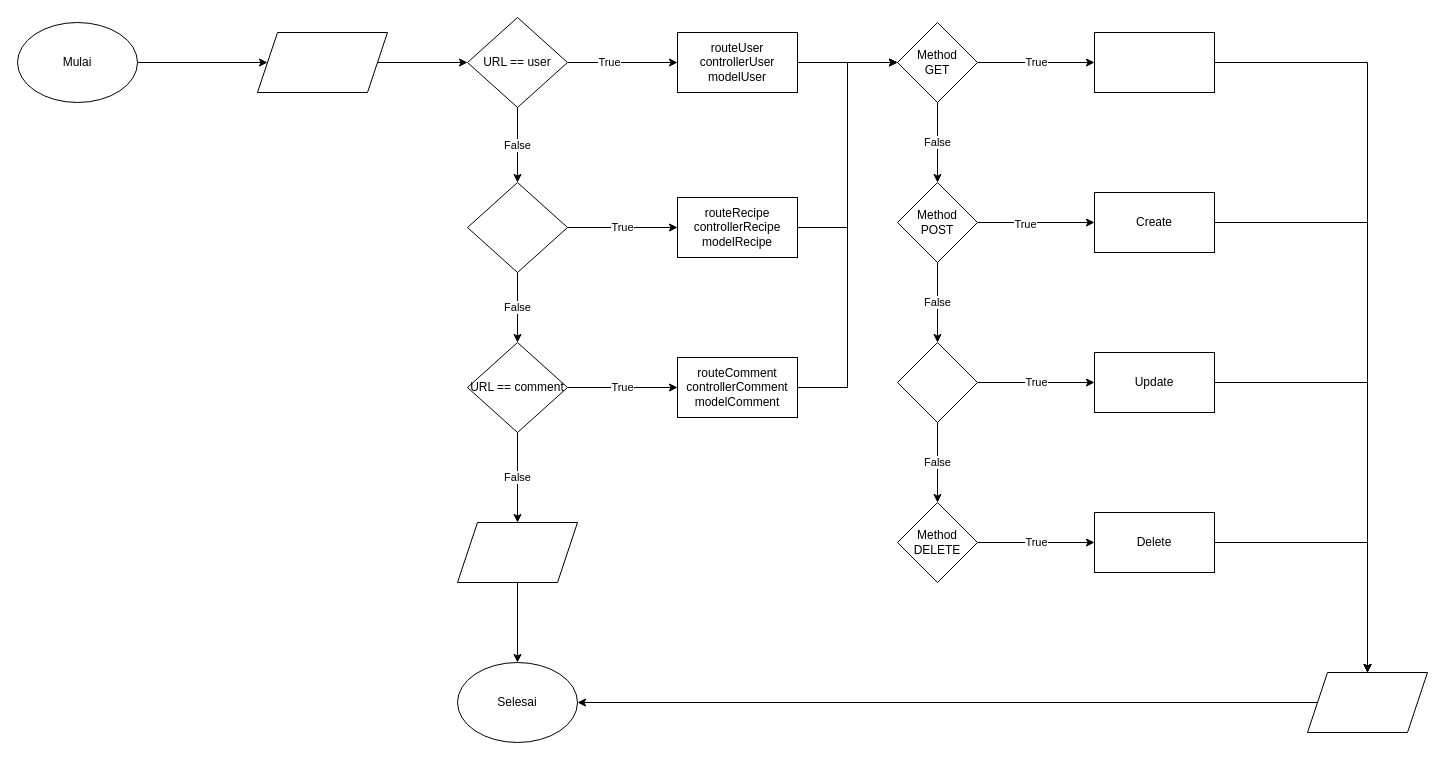
The diagram is 1445 pixels wide and 760 high, and some of its shapes have lost their labels. Here are the shapes that lost their labels. From the top down, the centre of each, then its label:
(x=322, y=62): Input URL
(x=1154, y=62): Read
(x=517, y=227): URL == recipe
(x=937, y=382): Method PUT
(x=517, y=552): Output "Path no found"
(x=1367, y=702): Output Response
